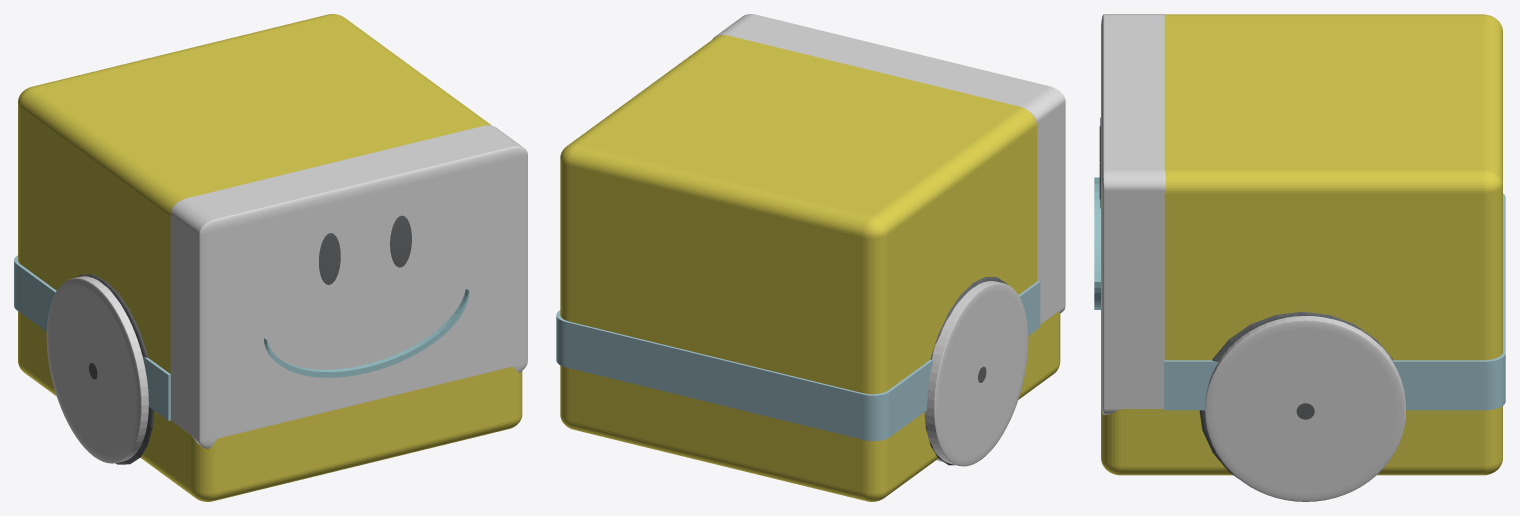
File: rol.glb
The picture shows the model from 3 angles, left to right: view 1: azimuth 30°, elevation 25°; view 2: azimuth 150°, elevation 25°; view 3: azimuth 270°, elevation 25°; orthographic projection. The views are drawn at different scales.
Visible parts, largest first — view 1: Mesh_Mesh_head_geo.001_lambert2SG.001; view 2: Mesh_Mesh_head_geo.001_lambert2SG.001; view 3: Mesh_Mesh_head_geo.001_lambert2SG.001.
Boxes of the visible parts, x1,y1,x2,y2 form: Mesh_Mesh_head_geo.001_lambert2SG.001: (14,14,527,501); Mesh_Mesh_head_geo.001_lambert2SG.001: (556,14,1065,501); Mesh_Mesh_head_geo.001_lambert2SG.001: (1094,14,1505,501).
Size of the model in its own units: 64 by 53 by 61.4.
